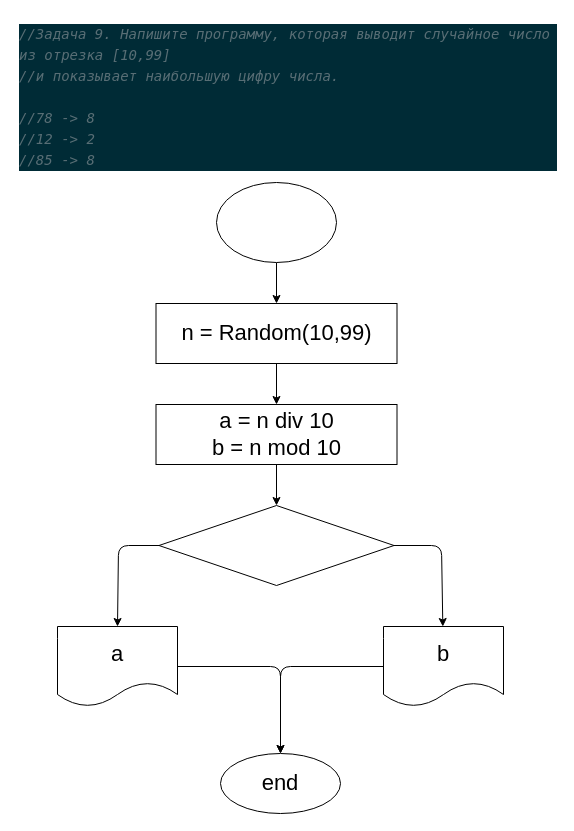
Some shapes in this 574 by 831 pixel diagram are drawn without their labels. Here are the shapes that lost their labels. From the top down, the centre of each, then its label:
the point at 276,222: start
the point at 276,545: a > b
